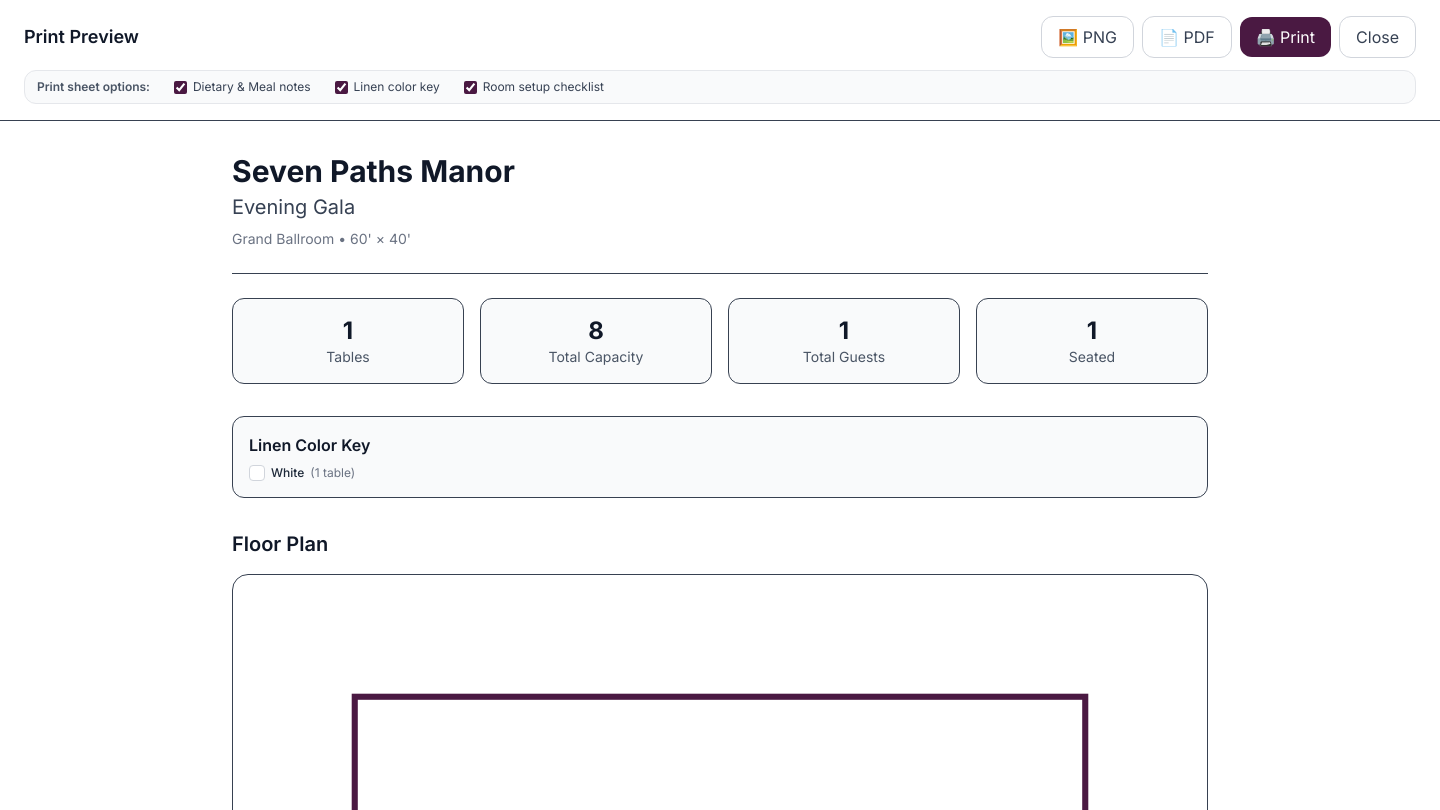
Test: PrintView (Print / Export Polish) › toggling checkboxes hides/shows dietary notes, Linen Color Key, and Room Setup Checklist
This screenshot has width=1440, height=810.
# Uncheck dietary notes
Click the checkbox labelled "Dietary & Meal notes": (180, 87) [174, 80, 187, 94]
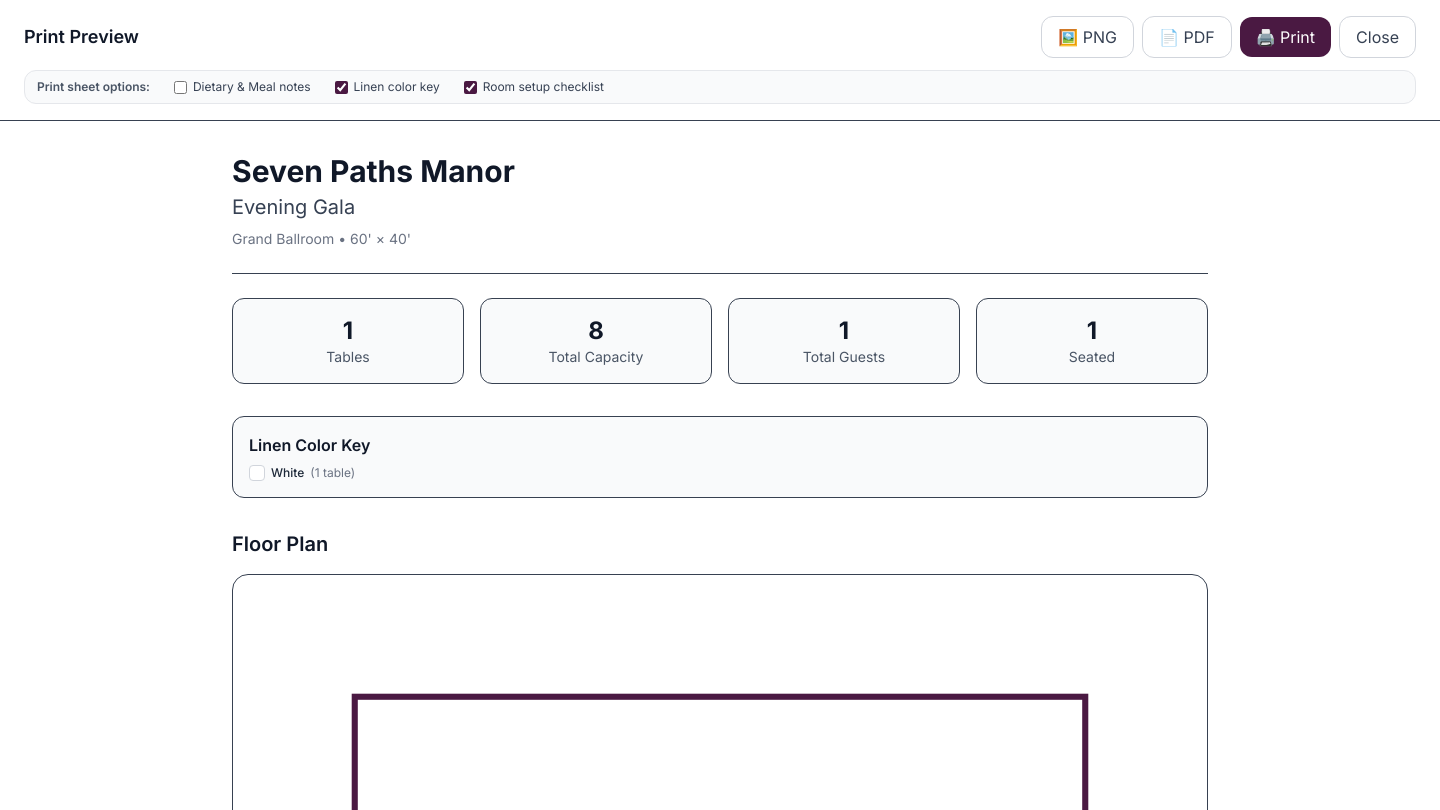
# Uncheck linen key
Click the checkbox labelled "Linen color key": (341, 87) [335, 80, 348, 94]
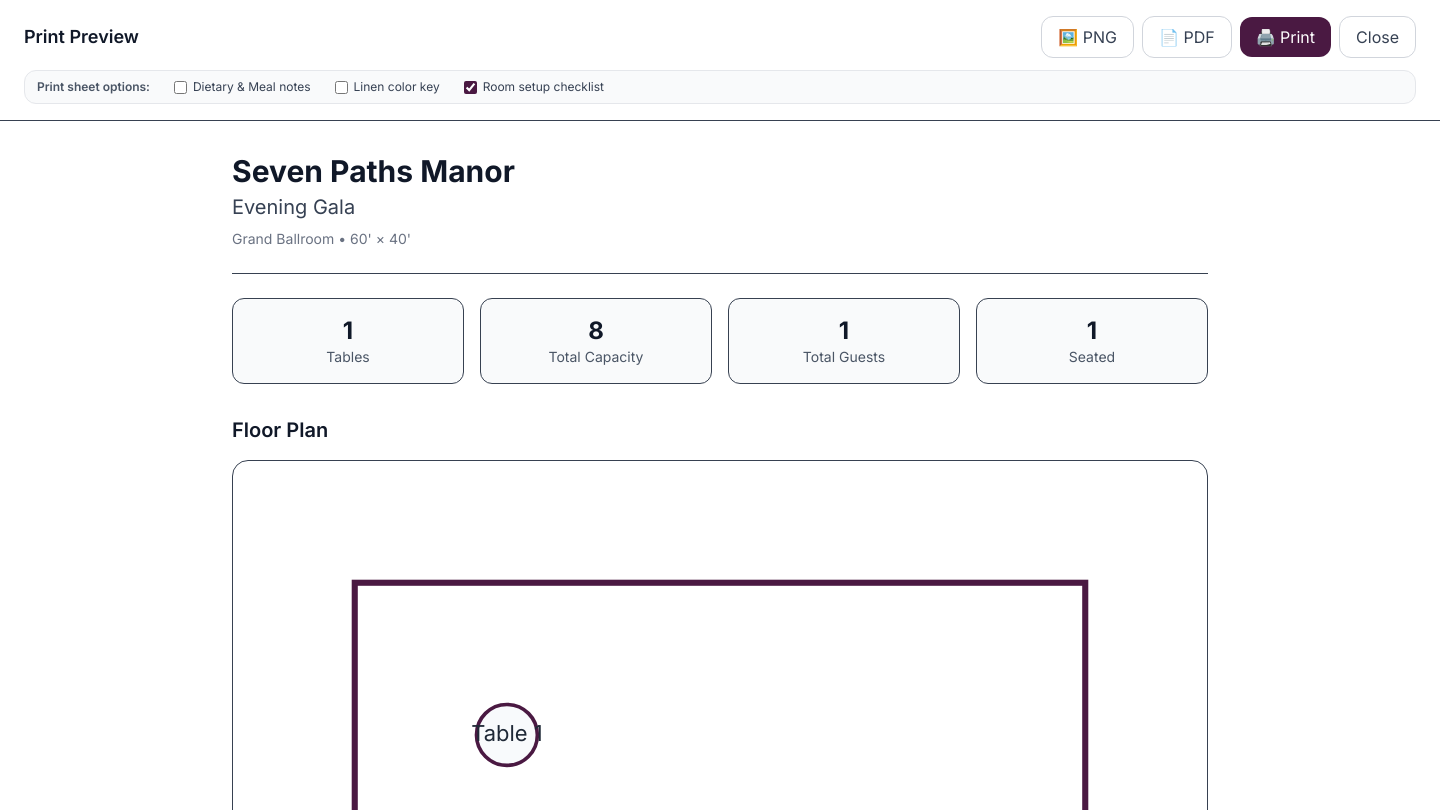
# Uncheck setup checklist
Click the checkbox labelled "Room setup checklist": (470, 87) [464, 80, 477, 94]
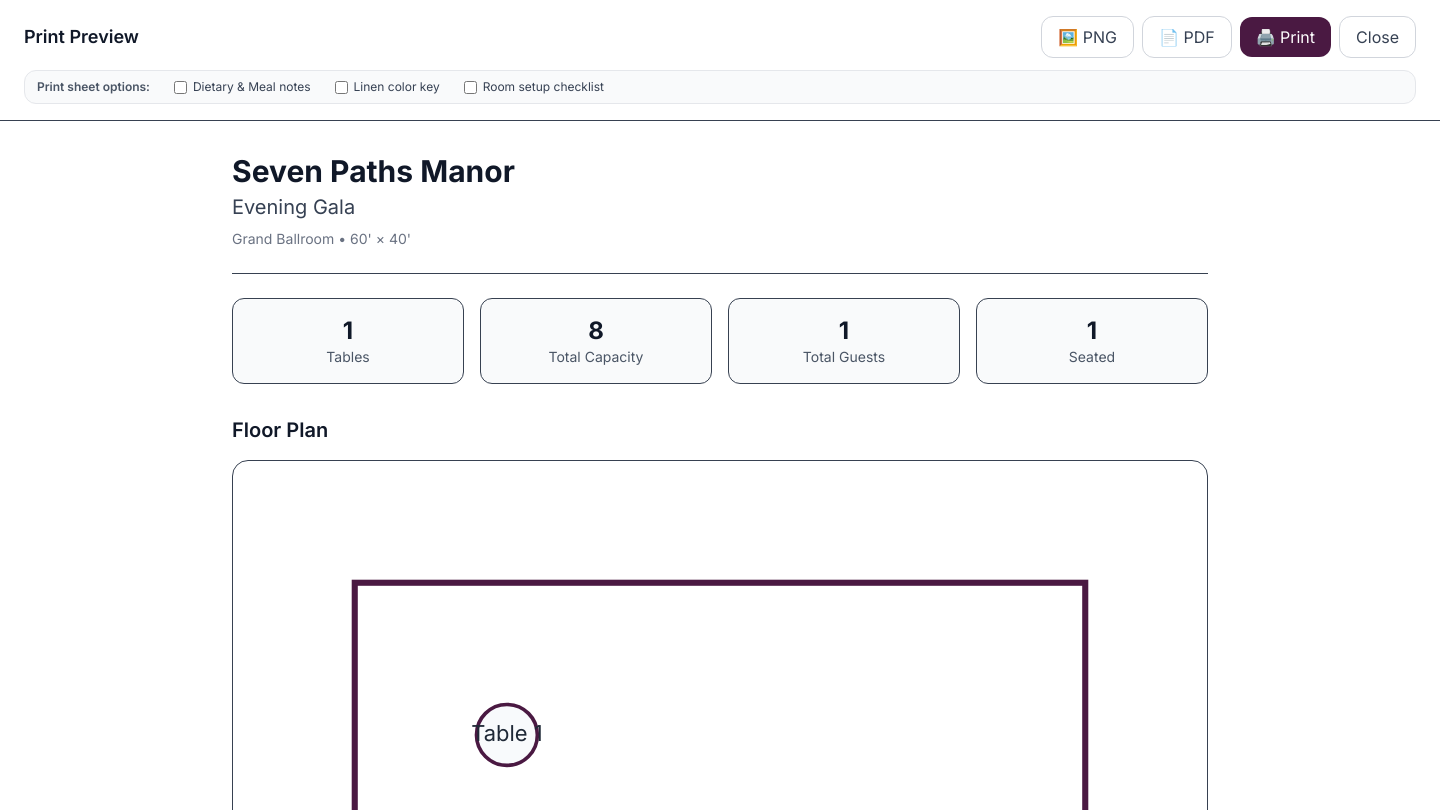
# Recheck setup checklist
Click the checkbox labelled "Room setup checklist": (470, 87) [464, 80, 477, 94]
(page scrolled)
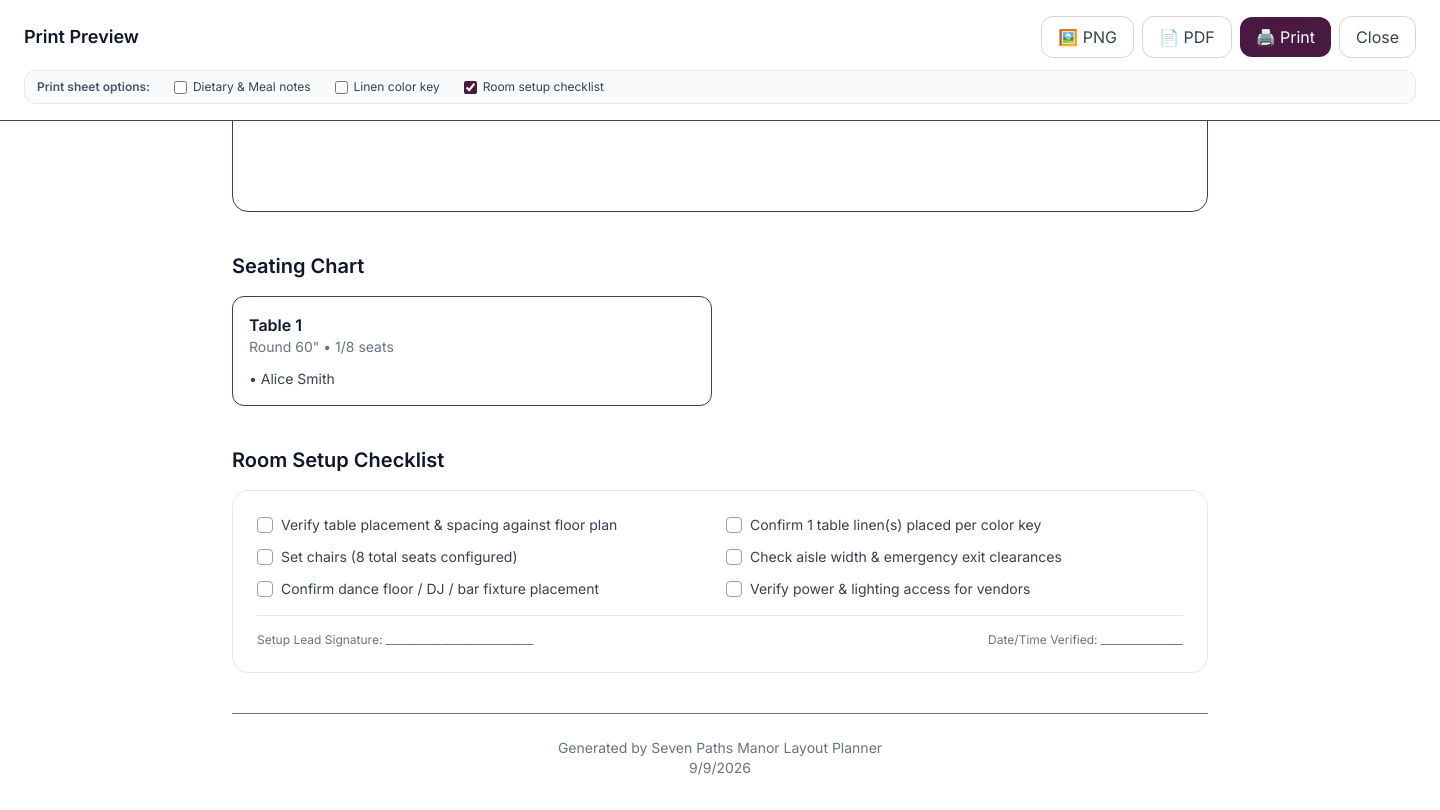
Expected: the heading "Room Setup Checklist" is shown, [232, 448, 444, 472]
